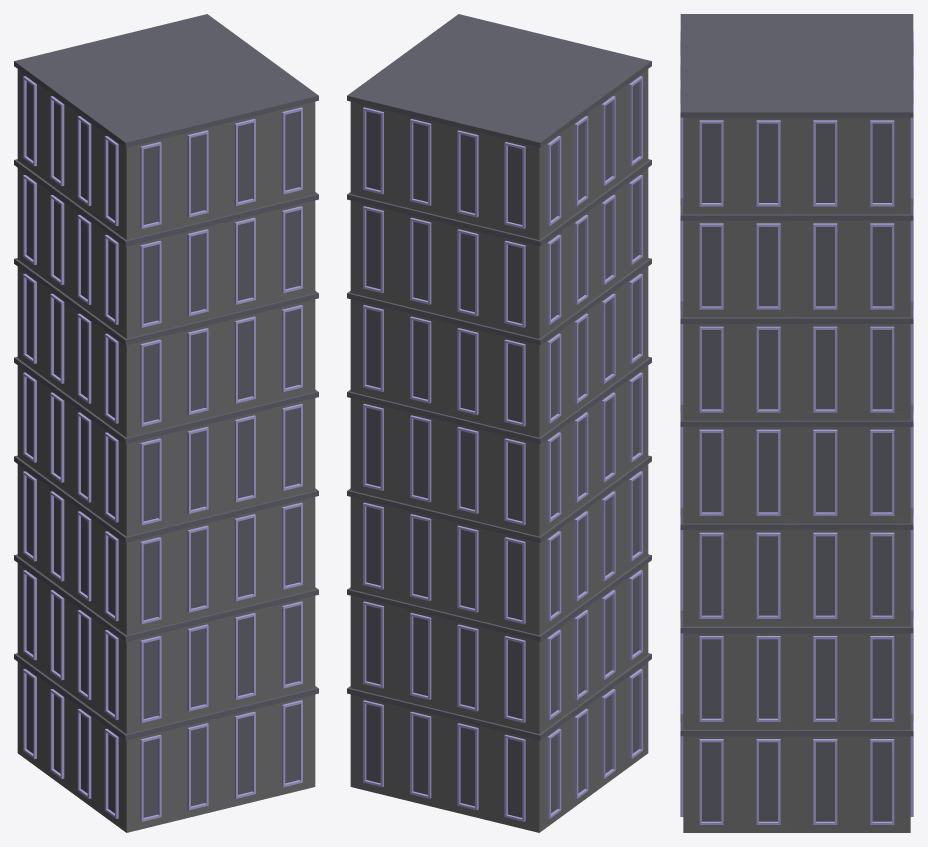
Rendered from obj_flat_2x2_sqaure2x2.FBX.
3 renders of one model, left to right at view 1: azimuth 30°, elevation 25°; view 2: azimuth 150°, elevation 25°; view 3: azimuth 270°, elevation 25°, orthographic. The views are drawn at different scales.
Visible parts, largest first — view 1: obj_flat_2x2_sqaure2x2; view 2: obj_flat_2x2_sqaure2x2; view 3: obj_flat_2x2_sqaure2x2.
Part boxes in pixels (<box>): obj_flat_2x2_sqaure2x2: <box>14,14,318,832</box>; obj_flat_2x2_sqaure2x2: <box>347,14,651,832</box>; obj_flat_2x2_sqaure2x2: <box>680,14,913,832</box>.
Bounding box in the file's own units: 4.1 × 14 × 4.1.
1 material, 1 textured.
